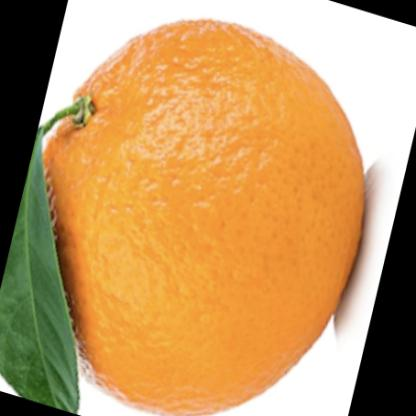fresh: (46, 19, 364, 416)
